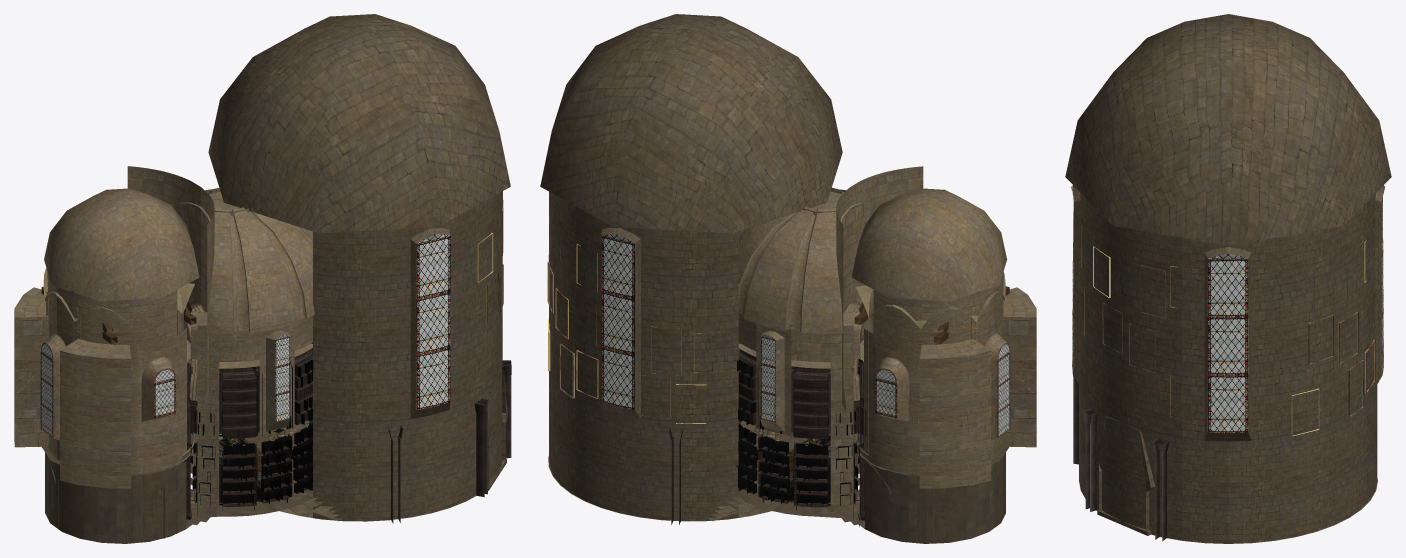
File: dumbledores_office.glb
The picture shows the model from 3 angles, left to right: view 1: azimuth 30°, elevation 25°; view 2: azimuth 150°, elevation 25°; view 3: azimuth 270°, elevation 25°; orthographic projection. The views are drawn at different scales.
Parts seen in each view (by area): view 1: pk_dumbledoreoffice_stonewall_back_mesh_0_pk_dumbledoreoffic, pk_dumbledoreoffice_stonewall_front_mesh_0_pk_dumbledoreoffi, pk_dumbledoreoffice_stonewall_mesh_0_pk_dumbledoreoffice_sto, pk_dumbledoreoffice_darkoffice_front_mesh_0_pk_dumbledoreoff, pk_dumbledoreoffice_leftshelf_0_pk_dumbledoreoffice_woodtrim, pk_dumbledoreoffice_telescope_back_mesh_0_pk_dumbledoreoffic, pk_dumbledoreoffice_leftatlas_0_pk_dumbledoreoffice_atlas01_, pk_dumbledoreoffice_telescope_front_mesh_0_pk_dumbledoreoffi, pk_dumbledoreoffice_woodtrim_back_mesh_0_pk_dumbledoreoffice, pk_dumbledoreoffice_woodfloor_mesh_0_pk_dumbledoreoffice_woo, pk_dumbledoreoffice_stonewallbare_front_mesh_0_pk_dumbledore, pk_dumbledoreoffice_entranceatlas_paintings2_0_pk_dumbledore; view 2: pk_dumbledoreoffice_stonewall_back_mesh_0_pk_dumbledoreoffic, pk_dumbledoreoffice_stonewall_front_mesh_0_pk_dumbledoreoffi, pk_dumbledoreoffice_stonewall_mesh_0_pk_dumbledoreoffice_sto, pk_dumbledoreoffice_darkoffice_front_mesh_0_pk_dumbledoreoff, pk_dumbledoreoffice_rightshelf_0_pk_dumbledoreoffice_woodtri, pk_dumbledoreoffice_telescope_back_mesh_0_pk_dumbledoreoffic, pk_dumbledoreoffice_rightatlas_0_pk_dumbledoreoffice_atlas01, pk_dumbledoreoffice_telescope_front_mesh_0_pk_dumbledoreoffi, pk_dumbledoreoffice_stonewallbare_front_mesh_0_pk_dumbledore, pk_dumbledoreoffice_woodfloor_mesh_0_pk_dumbledoreoffice_woo, pk_dumbledoreoffice_mainwindow_mesh_0_pk_dumbledoreoffice_te, pk_dumbledoreoffice_entranceatlas_paintings3_0_pk_dumbledore; view 3: pk_dumbledoreoffice_stonewall_back_mesh_0_pk_dumbledoreoffic, pk_dumbledoreoffice_telescope_back_mesh_0_pk_dumbledoreoffic, pk_dumbledoreoffice_woodtrim_back_mesh_0_pk_dumbledoreoffice, pk_dumbledoreoffice_entranceatlas_paintings3_0_pk_dumbledore, pk_dumbledoreoffice_entranceatlas_paintings2_0_pk_dumbledore.
Part boxes in pixels (left/top/right/bottom): pk_dumbledoreoffice_stonewall_back_mesh_0_pk_dumbledoreoffic: left=208, top=14, right=510, bottom=521; pk_dumbledoreoffice_stonewall_front_mesh_0_pk_dumbledoreoffi: left=14, top=188, right=216, bottom=516; pk_dumbledoreoffice_stonewall_mesh_0_pk_dumbledoreoffice_sto: left=127, top=166, right=314, bottom=514; pk_dumbledoreoffice_darkoffice_front_mesh_0_pk_dumbledoreoff: left=41, top=435, right=192, bottom=543; pk_dumbledoreoffice_leftshelf_0_pk_dumbledoreoffice_woodtrim: left=181, top=342, right=312, bottom=524; pk_dumbledoreoffice_telescope_back_mesh_0_pk_dumbledoreoffic: left=416, top=234, right=450, bottom=410; pk_dumbledoreoffice_leftatlas_0_pk_dumbledoreoffice_atlas01_: left=192, top=359, right=313, bottom=505; pk_dumbledoreoffice_telescope_front_mesh_0_pk_dumbledoreoffi: left=40, top=334, right=290, bottom=437; pk_dumbledoreoffice_woodtrim_back_mesh_0_pk_dumbledoreoffice: left=388, top=360, right=511, bottom=523; pk_dumbledoreoffice_woodfloor_mesh_0_pk_dumbledoreoffice_woo: left=187, top=432, right=312, bottom=524; pk_dumbledoreoffice_stonewallbare_front_mesh_0_pk_dumbledore: left=43, top=268, right=312, bottom=502; pk_dumbledoreoffice_entranceatlas_paintings2_0_pk_dumbledore: left=453, top=191, right=503, bottom=323; pk_dumbledoreoffice_stonewall_back_mesh_0_pk_dumbledoreoffic: left=540, top=14, right=842, bottom=521; pk_dumbledoreoffice_stonewall_front_mesh_0_pk_dumbledoreoffi: left=851, top=188, right=1036, bottom=513; pk_dumbledoreoffice_stonewall_mesh_0_pk_dumbledoreoffice_sto: left=738, top=166, right=923, bottom=515; pk_dumbledoreoffice_darkoffice_front_mesh_0_pk_dumbledoreoff: left=858, top=436, right=1009, bottom=543; pk_dumbledoreoffice_rightshelf_0_pk_dumbledoreoffice_woodtri: left=738, top=343, right=869, bottom=526; pk_dumbledoreoffice_telescope_back_mesh_0_pk_dumbledoreoffic: left=601, top=234, right=634, bottom=409; pk_dumbledoreoffice_rightatlas_0_pk_dumbledoreoffice_atlas01: left=736, top=360, right=858, bottom=506; pk_dumbledoreoffice_telescope_front_mesh_0_pk_dumbledoreoffi: left=875, top=343, right=1010, bottom=437; pk_dumbledoreoffice_stonewallbare_front_mesh_0_pk_dumbledore: left=738, top=272, right=1005, bottom=502; pk_dumbledoreoffice_woodfloor_mesh_0_pk_dumbledoreoffice_woo: left=737, top=432, right=863, bottom=525; pk_dumbledoreoffice_mainwindow_mesh_0_pk_dumbledoreoffice_te: left=760, top=334, right=775, bottom=422; pk_dumbledoreoffice_entranceatlas_paintings3_0_pk_dumbledore: left=547, top=215, right=598, bottom=398; pk_dumbledoreoffice_stonewall_back_mesh_0_pk_dumbledoreoffic: left=1065, top=14, right=1391, bottom=543; pk_dumbledoreoffice_telescope_back_mesh_0_pk_dumbledoreoffic: left=1071, top=185, right=1384, bottom=433; pk_dumbledoreoffice_woodtrim_back_mesh_0_pk_dumbledoreoffice: left=1072, top=369, right=1169, bottom=541; pk_dumbledoreoffice_entranceatlas_paintings3_0_pk_dumbledore: left=1255, top=240, right=1375, bottom=436; pk_dumbledoreoffice_entranceatlas_paintings2_0_pk_dumbledore: left=1081, top=225, right=1200, bottom=416.
Size of the model in its own units: 0.1443 by 0.1317 by 0.0855.
18 materials, 15 textured.
